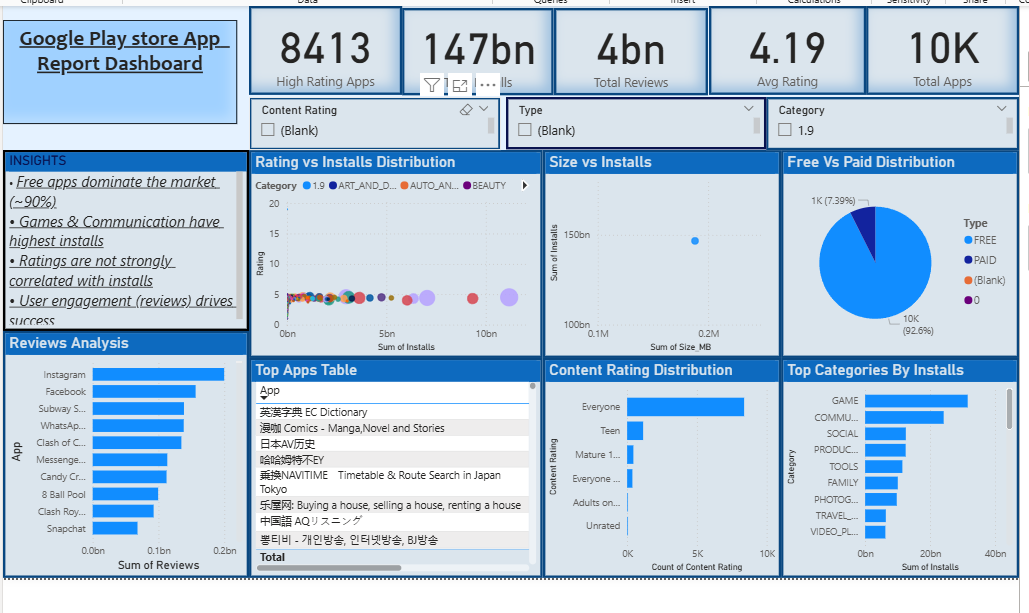

What the dashboard file says about the page in this screenshot:
{"tool":"powerbi","page":{"name":"Dashboard","canvas":[1280,720],"ordinal":0},"visuals":[{"type":"card","fields":{"Values":["Sheet1.Total Apps"]},"box":[1087.2,0,192.8,112.1],"z":0},{"type":"card","fields":{"Values":["Sheet1.Total Installs"]},"box":[502.7,2.5,191.5,109.6],"z":1000},{"type":"card","fields":{"Values":["Sheet1.Total Reviews"]},"box":[694.2,2.5,194,109.6],"z":2000},{"type":"card","fields":{"Values":["Sheet1.Avg Rating"]},"box":[889.4,0,197.8,112.1],"z":3000},{"type":"barChart","title":"Top Categories By Installs","fields":{"Category":["Sheet1.Category"],"Y":["Sum(Sheet1.Installs)"]},"box":[980.2,443.5,299.8,277.2],"z":4000},{"type":"pieChart","title":"Free Vs Paid Distribution","fields":{"Category":["Sheet1.Type"],"Y":["Sheet1.Total Apps"]},"box":[980.2,181.4,299.8,262],"z":5000},{"type":"barChart","title":"Content Rating Distribution","fields":{"Category":["Sheet1.Content Rating"],"Y":["CountNonNull(Sheet1.Content Rating)"]},"box":[680.3,443.5,299.8,277.2],"z":6000},{"type":"scatterChart","title":"Rating vs Installs Distribution","fields":{"X":["Sum(Sheet1.Installs)1"],"Y":["Sheet1.Rating"],"Size":["Sum(Sheet1.Reviews)"],"Series":["Sheet1.Category"]},"box":[309.9,181.4,370.4,262],"z":7000},{"type":"tableEx","title":"Top Apps Table","fields":{"Values":["Sheet1.App","Sum(Sheet1.Installs)","Sum(Sheet1.Rating)","Sum(Sheet1.Reviews)"]},"box":[309.9,443.5,370.4,277.2],"z":8000},{"type":"barChart","title":"Reviews Analysis ","fields":{"Y":["Sum(Sheet1.Reviews)"],"Category":["Sheet1.App"]},"box":[0,409.4,309.9,311.2],"z":9000},{"type":"scatterChart","title":"Size vs Installs","fields":{"X":["Sum(Sheet1.Size_MB)"],"Y":["Sum(Sheet1.Installs)"]},"box":[680.3,181.4,299.8,262],"z":10000},{"type":"slicer","fields":{"Values":["Sheet1.Category"]},"box":[961.3,114.6,318.7,66.8],"z":11000},{"type":"slicer","fields":{"Values":["Sheet1.Type"]},"box":[633.7,114.6,327.6,65.5],"z":12000},{"type":"slicer","fields":{"Values":["Sheet1.Content Rating"]},"box":[309.9,114.6,317.5,66.8],"z":13000},{"type":"card","fields":{"Values":["Sheet1.High Rating Apps"]},"box":[309.9,0,192.8,112.1],"z":14000},{"type":"textbox","box":[0,17.6,294.8,131],"z":15000},{"type":"textbox","title":"INSIGHTS","box":[0,181.4,309.9,228],"z":16000}]}

Visuals, with their boxes in screenshot pixels (x1, y1, x2, y2):
card - Sheet1.Total Apps: <box>862,3,1015,92</box>
card - Sheet1.Total Installs: <box>399,5,550,92</box>
card - Sheet1.Total Reviews: <box>550,5,704,92</box>
card - Sheet1.Avg Rating: <box>705,3,862,92</box>
"Top Categories By Installs" barChart: <box>777,354,1015,574</box>
"Free Vs Paid Distribution" pieChart: <box>777,146,1015,354</box>
"Content Rating Distribution" barChart: <box>539,354,777,574</box>
"Rating vs Installs Distribution" scatterChart: <box>246,146,539,354</box>
"Top Apps Table" tableEx: <box>246,354,539,574</box>
"Reviews Analysis " barChart: <box>0,327,246,574</box>
"Size vs Installs" scatterChart: <box>539,146,777,354</box>
slicer - Sheet1.Category: <box>762,94,1015,146</box>
slicer - Sheet1.Type: <box>502,94,762,145</box>
slicer - Sheet1.Content Rating: <box>246,94,497,146</box>
card - Sheet1.High Rating Apps: <box>246,3,399,92</box>
textbox: <box>0,17,234,120</box>
"INSIGHTS" textbox: <box>0,146,246,327</box>
